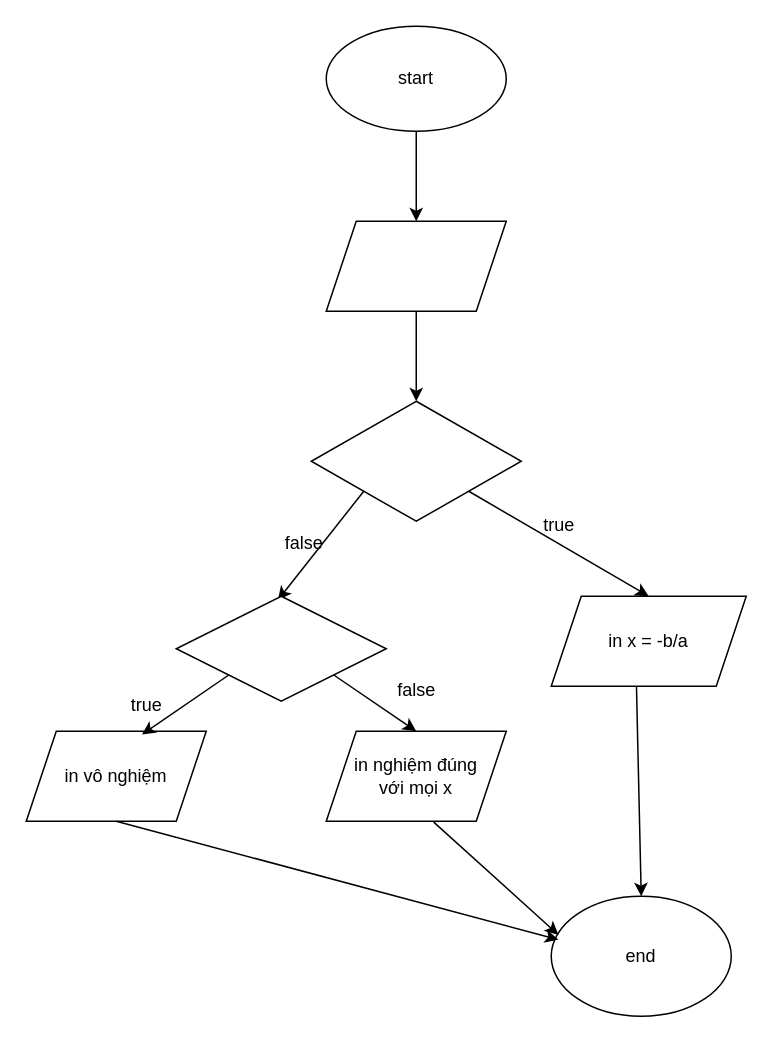
Image size: 773x1043. Some labels were removed from this diagram. The centre of each missing label's shape, as x and y in pixels:
a != 0: (x=415, y=460)
b != 0: (x=280, y=648)
nhập 2 số a và b: (x=415, y=265)
